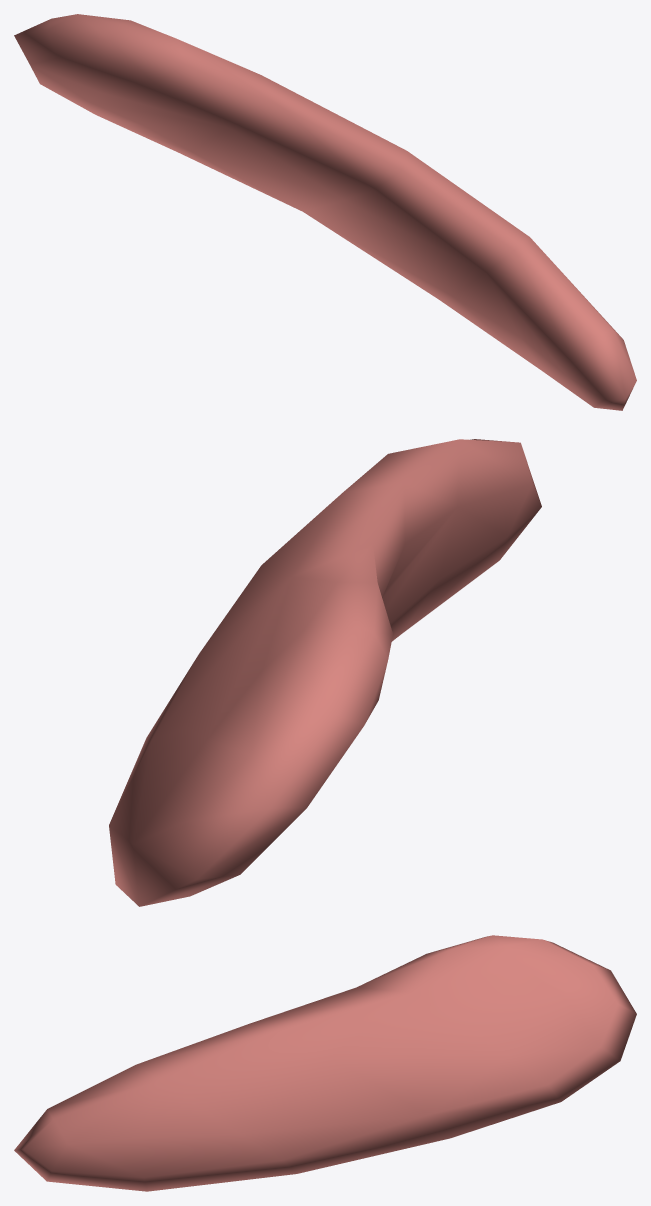
3 renders of one model, top to bottom at view 1: azimuth 30°, elevation 25°; view 2: azimuth 150°, elevation 25°; view 3: azimuth 270°, elevation 25°, orthographic. The views are drawn at different scales.
Visible parts, largest first — view 1: ZA_c26f46876854f7f7; view 2: ZA_c26f46876854f7f7; view 3: ZA_c26f46876854f7f7.
Part boxes in pixels (left/top/right/bottom): ZA_c26f46876854f7f7: left=14, top=14, right=636, bottom=410; ZA_c26f46876854f7f7: left=109, top=439, right=541, bottom=906; ZA_c26f46876854f7f7: left=14, top=935, right=636, bottom=1191.
Bounding box in the file's own units: 0.00199 × 0.00162 × 0.00522.
